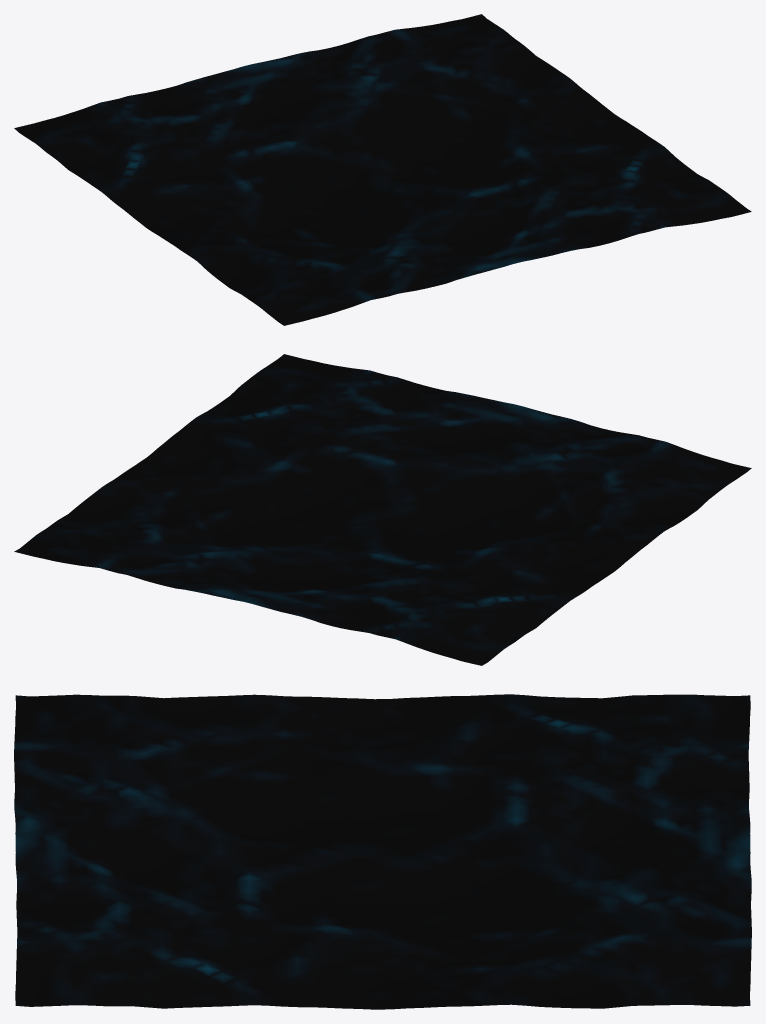
The model's file is Sea(9).glb.
The picture shows the model from 3 angles, top to bottom: view 1: azimuth 30°, elevation 25°; view 2: azimuth 150°, elevation 25°; view 3: azimuth 270°, elevation 25°; orthographic projection. The views are drawn at different scales.
Visible parts, largest first — view 1: Sea; view 2: Sea; view 3: Sea.
Part boxes in pixels (<box>): Sea: <box>14,14,751,325</box>; Sea: <box>14,354,751,665</box>; Sea: <box>14,694,751,1009</box>.
Size of the model in its own units: 50.14 by 1.44 by 50.23.
